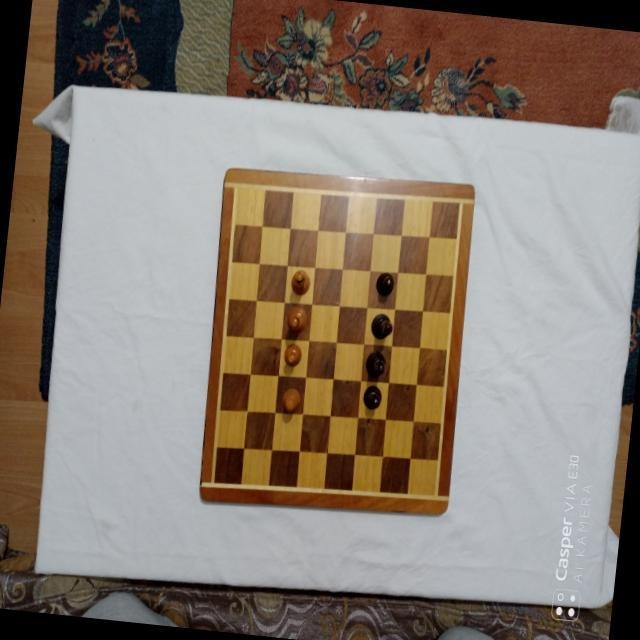black-bishop: (364, 349, 388, 379), (369, 312, 394, 340)
black-pawn: (361, 383, 383, 410), (374, 270, 394, 297)
white-bishop: (288, 267, 311, 296), (284, 306, 307, 334)
white-pawn: (280, 386, 301, 414), (282, 341, 302, 367)
